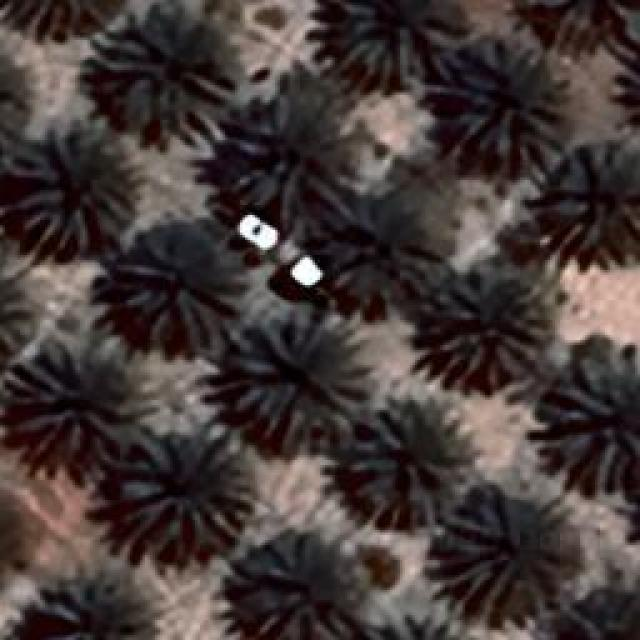PalmTree: (82, 10, 236, 150), (218, 310, 372, 448), (61, 18, 380, 82), (230, 85, 370, 225), (115, 424, 260, 558), (430, 490, 575, 620), (435, 35, 570, 170), (112, 218, 245, 350), (10, 115, 140, 250), (347, 395, 475, 530), (425, 258, 550, 390), (540, 342, 638, 496), (320, 190, 448, 305), (10, 335, 115, 463), (227, 534, 355, 638), (547, 140, 635, 265), (48, 568, 160, 638), (524, 0, 640, 49), (343, 608, 483, 640), (563, 590, 640, 640), (0, 244, 31, 368), (0, 34, 29, 166), (0, 482, 27, 589), (0, 38, 19, 166), (0, 482, 19, 588), (623, 32, 640, 141)
